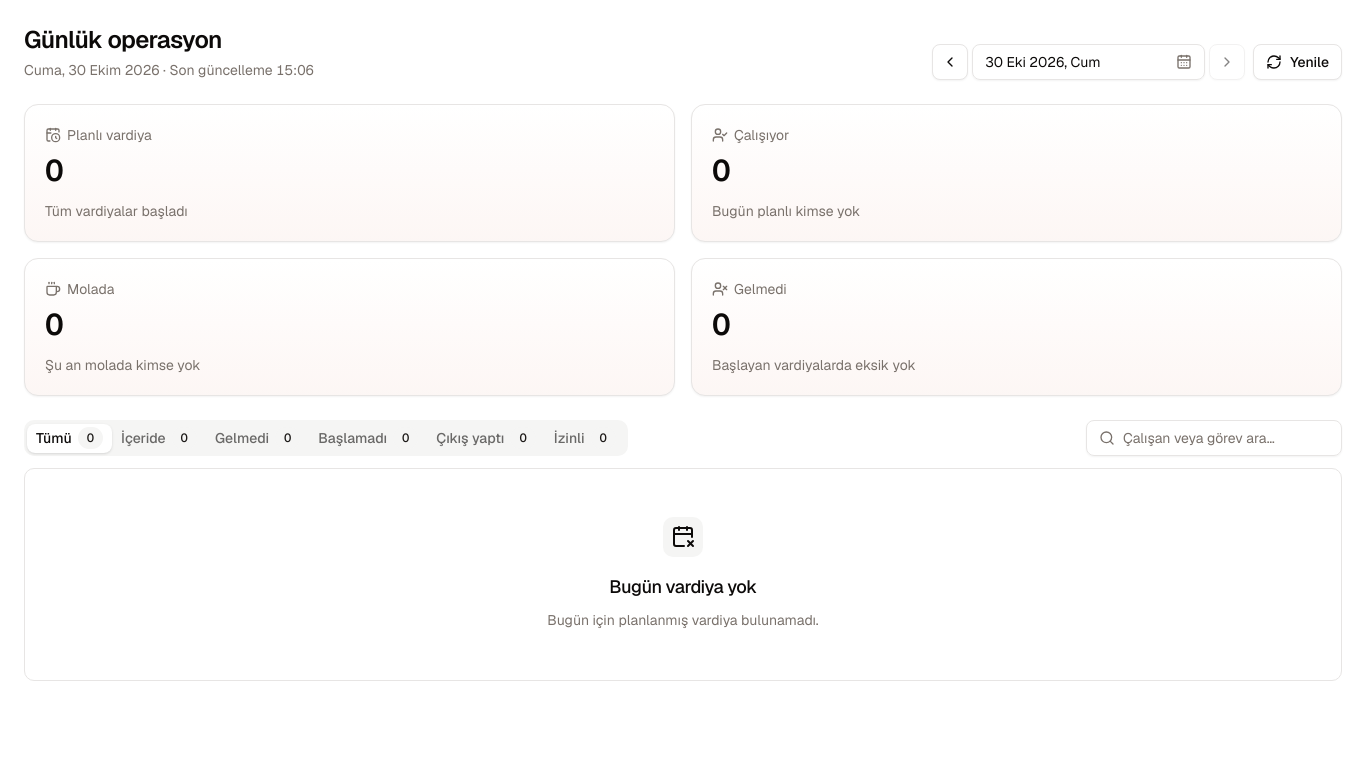
Günlük operasyon — önceki günler › yönetici önceki güne geçer; çıkış okutulmamış kayıt "Çıkış yok", canlı kartlar gizli
Step 1. Click the button named "Önceki gün" → point(950, 62), box [932,44,968,80]
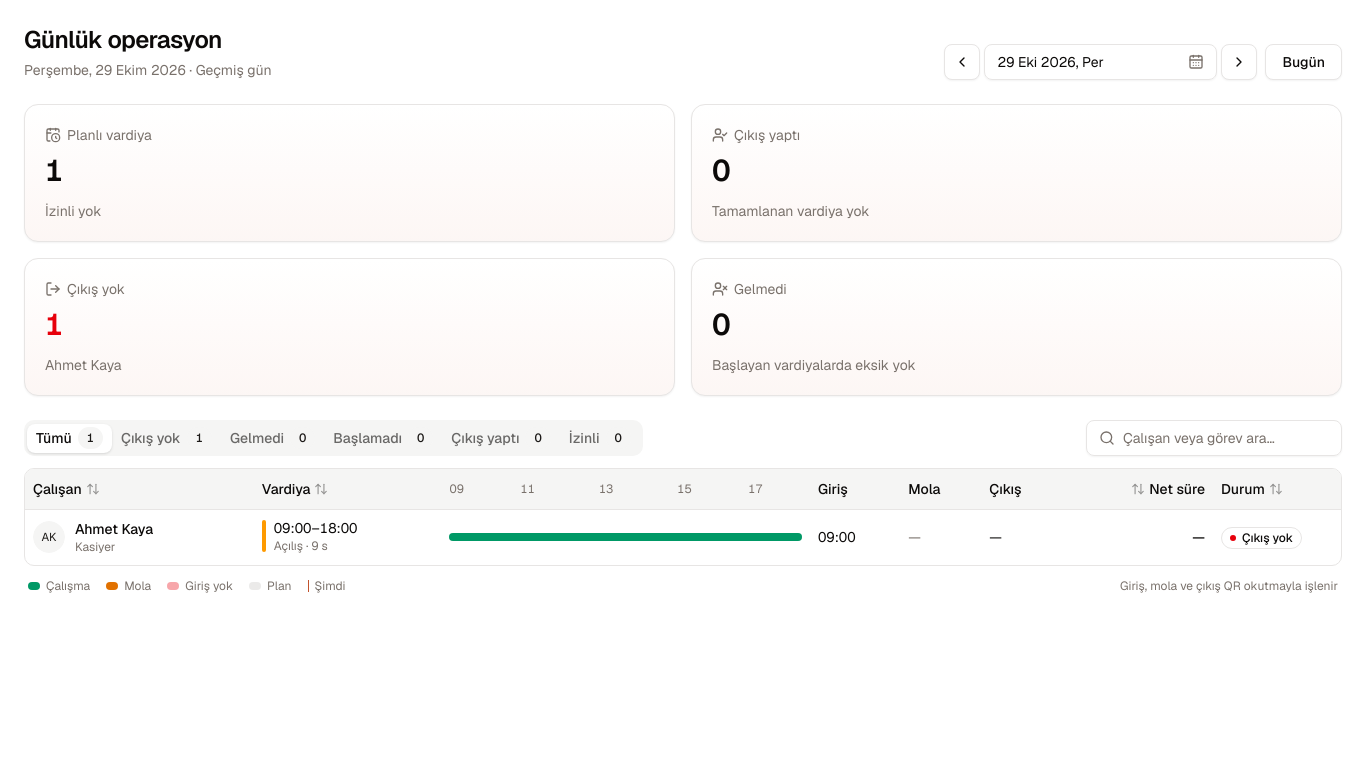
Expected: the cell "AK Ahmet Kaya Kasiyer" is shown, [25,509,254,564]
Expected: the text "Çalışıyor" is gone
Expected: the text "Molada" is gone
Step 2. Click the button "Bugün" → point(1304, 62), box [1266,44,1342,80]
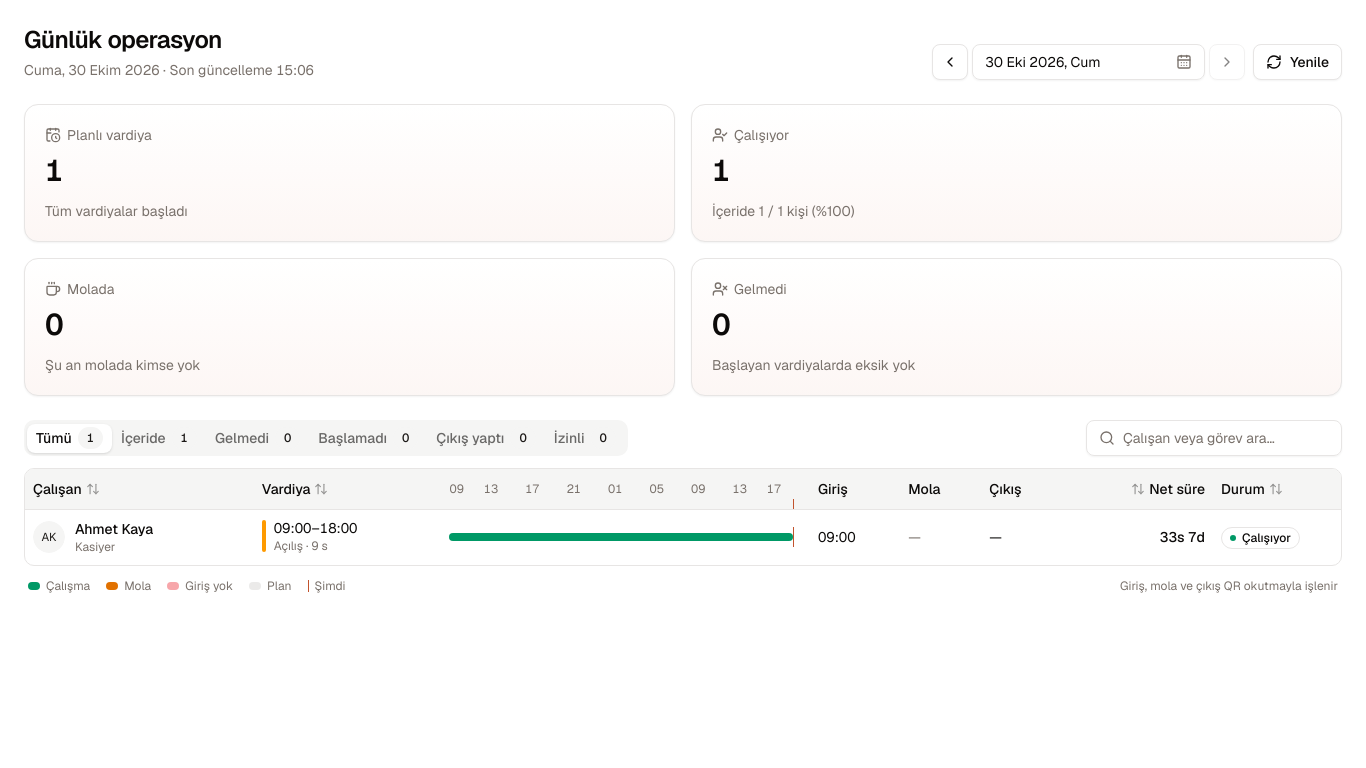
Expected: the text "Geçmiş gün" is gone
Expected: the button named "Sonraki gün" is disabled, [1209,44,1245,80]
